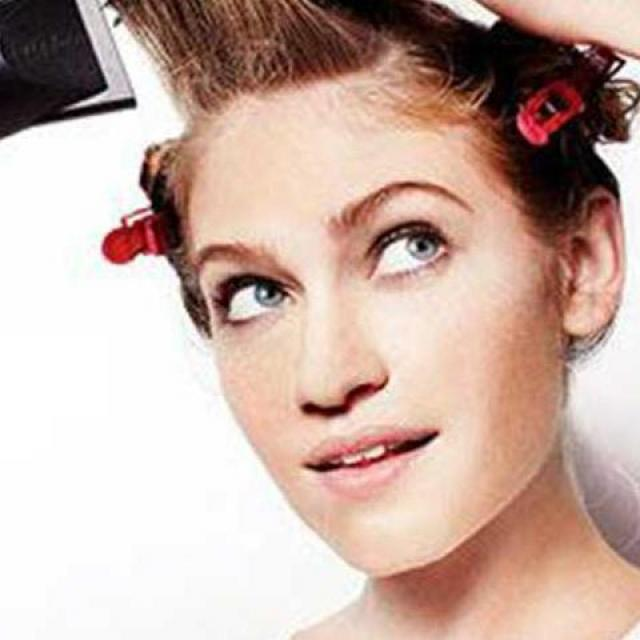surprised: (159, 96, 577, 537)
